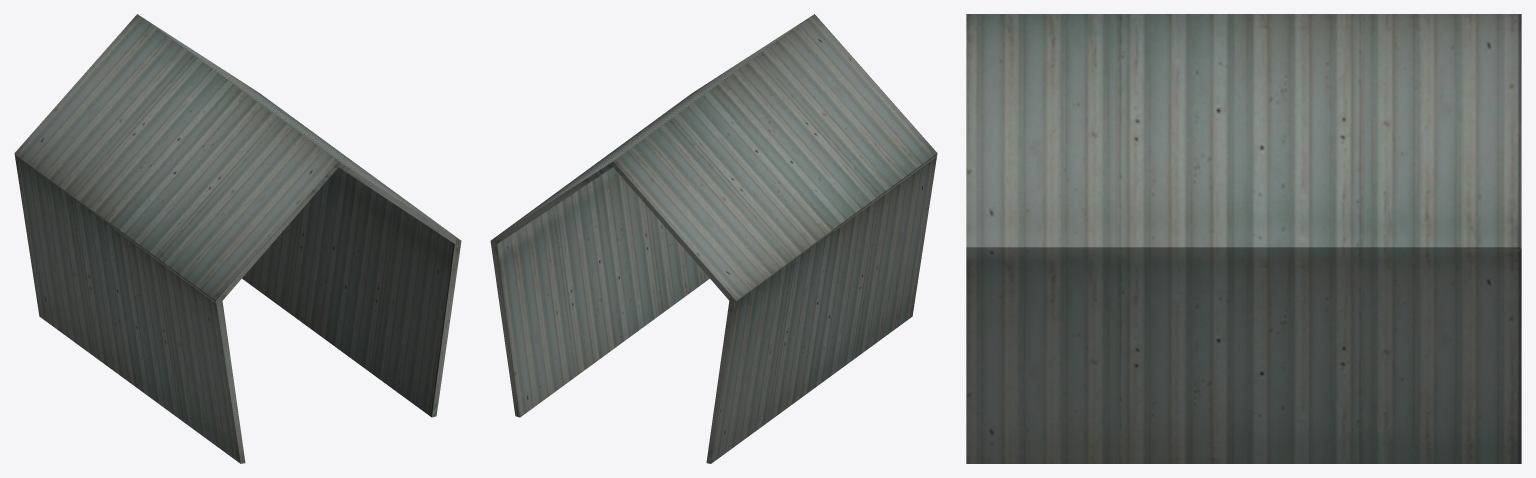
File: Metal house.FBX
3 renders of one model, left to right at view 1: azimuth 30°, elevation 25°; view 2: azimuth 150°, elevation 25°; view 3: azimuth 270°, elevation 25°, orthographic. The views are drawn at different scales.
Visible parts, largest first — view 1: Metal house; view 2: Metal house; view 3: Metal house.
Boxes of the visible parts, x1,y1,x2,y2 form: Metal house: [14, 14, 461, 463]; Metal house: [490, 14, 937, 463]; Metal house: [966, 14, 1521, 463].
Bounding box in the file's own units: 134 × 146 × 191.
